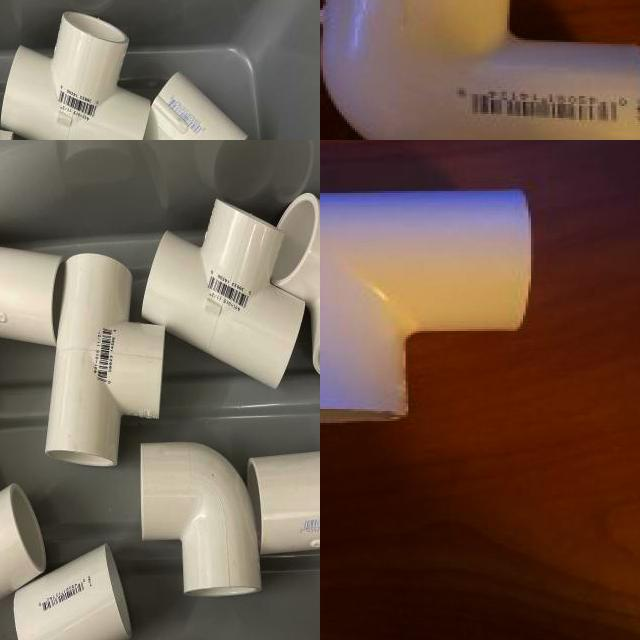L Joint: (320, 0, 640, 140), (139, 443, 262, 601), (0, 483, 49, 602)
T Joint: (320, 189, 533, 427), (141, 199, 307, 391), (45, 253, 166, 469), (1, 12, 151, 140)
